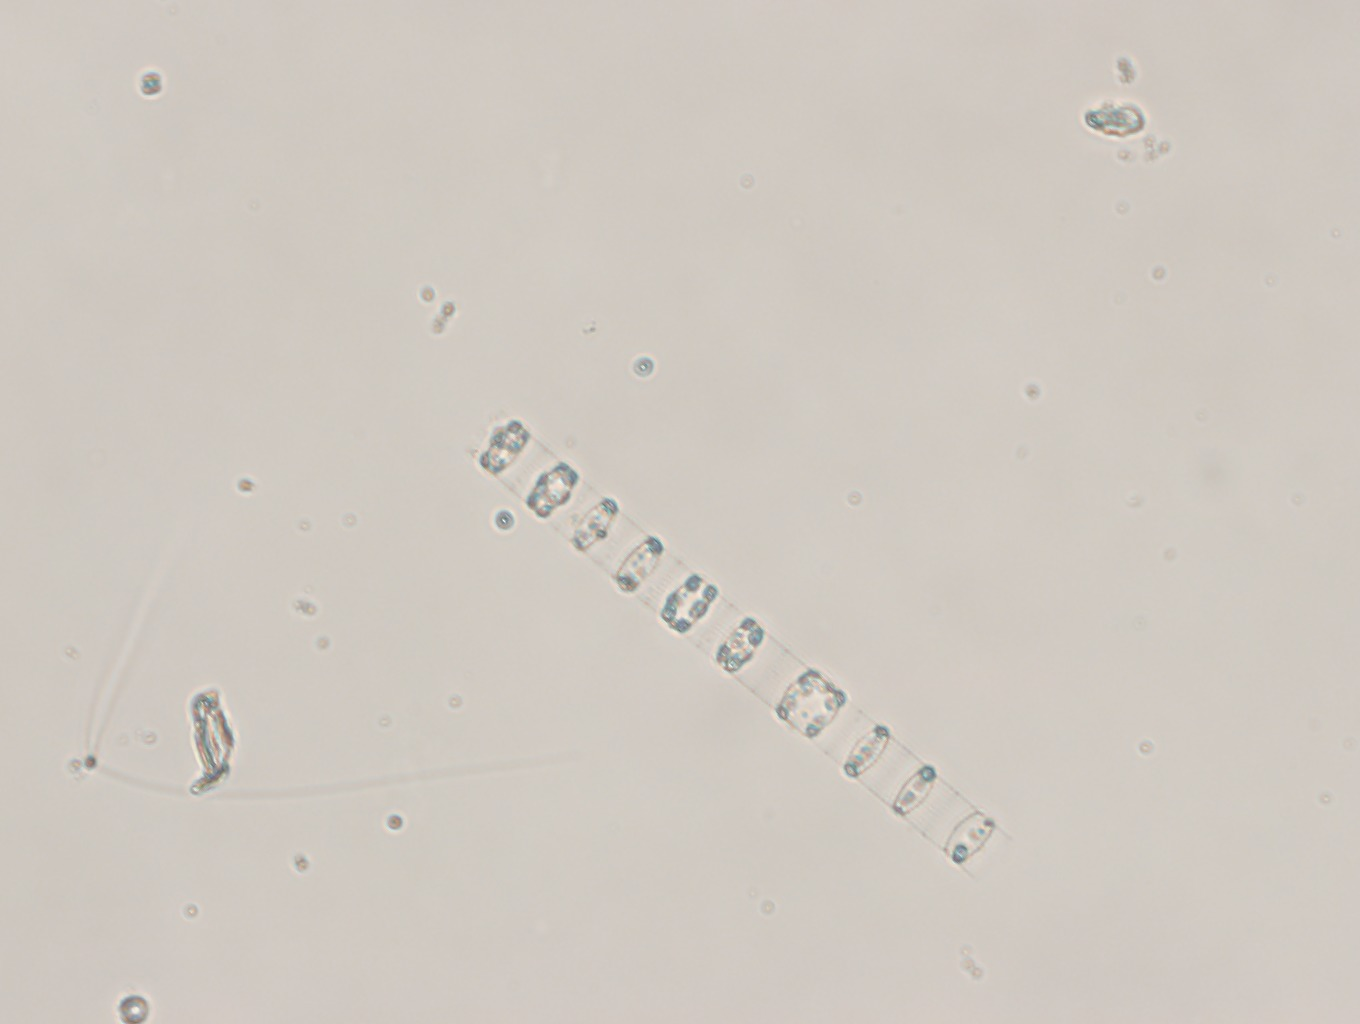skeletonema: (456, 398, 1010, 886)
